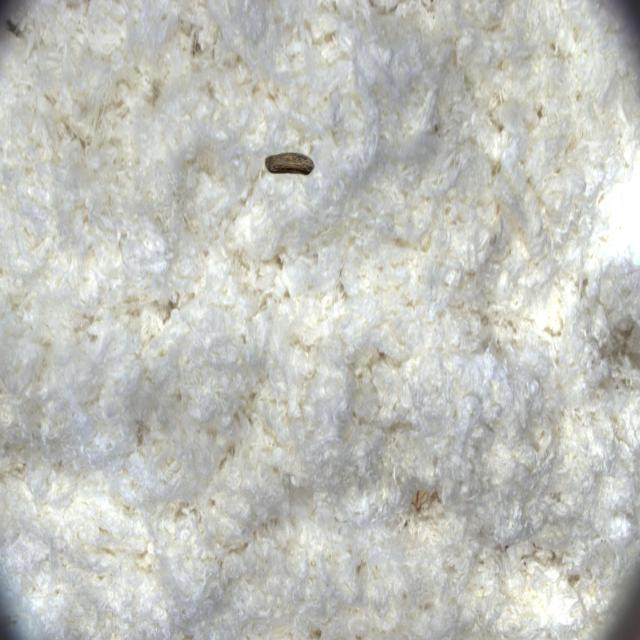dust: (244, 113, 331, 224)
